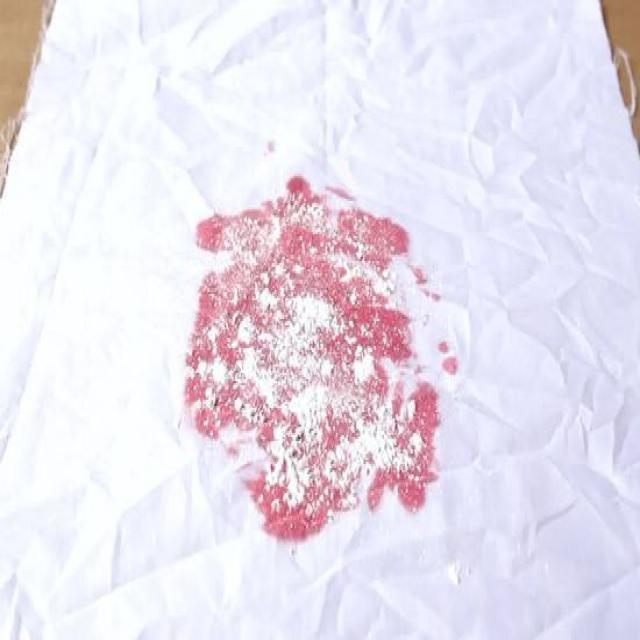wound: (175, 160, 468, 554)
